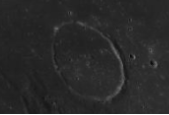crater: (30, 14, 130, 108)
